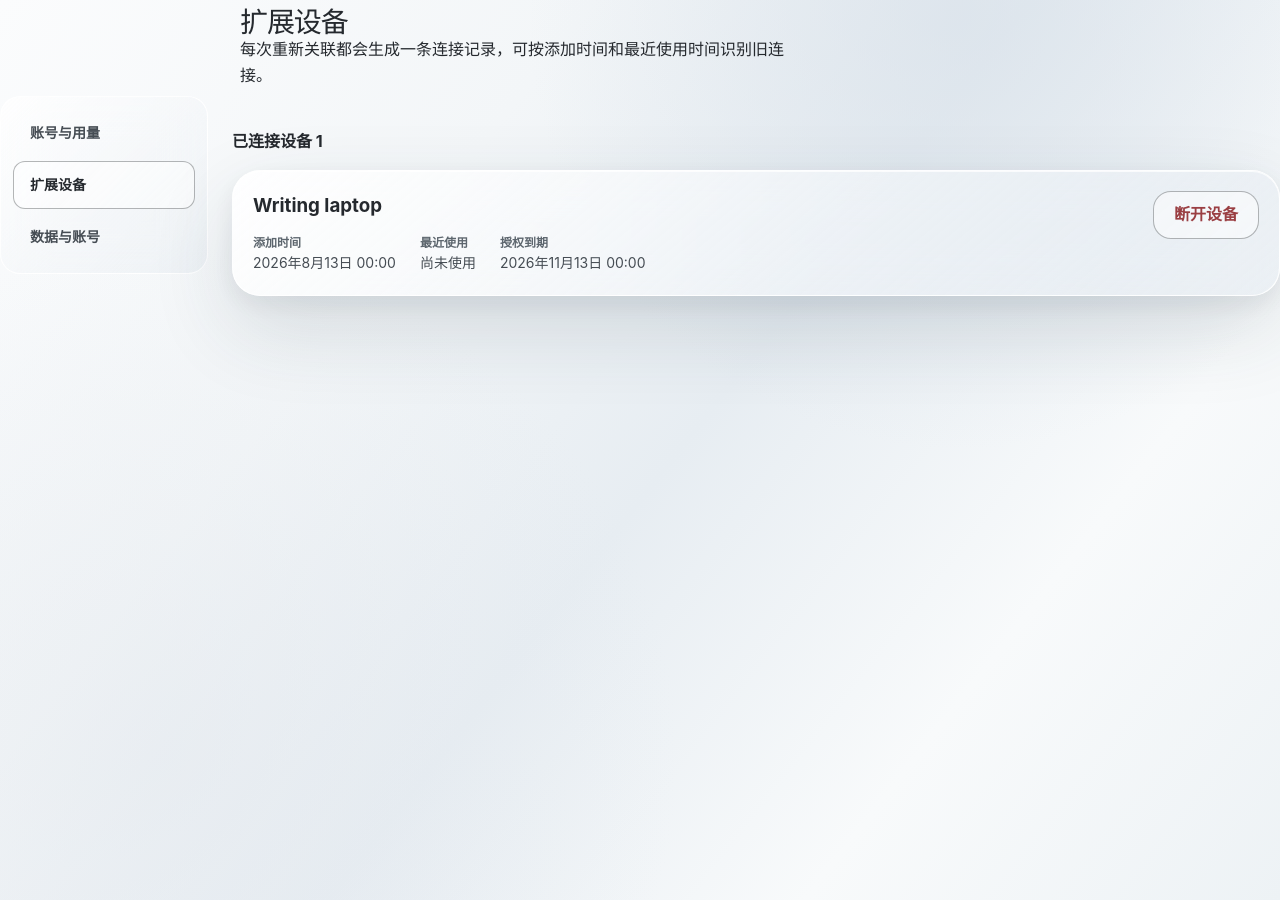
Web account device sessions › requires confirmation, revokes on the server, and announces success
Click the button "断开设备". click: (1206, 215)
box: x1=1153 y1=191 x2=1259 y2=239
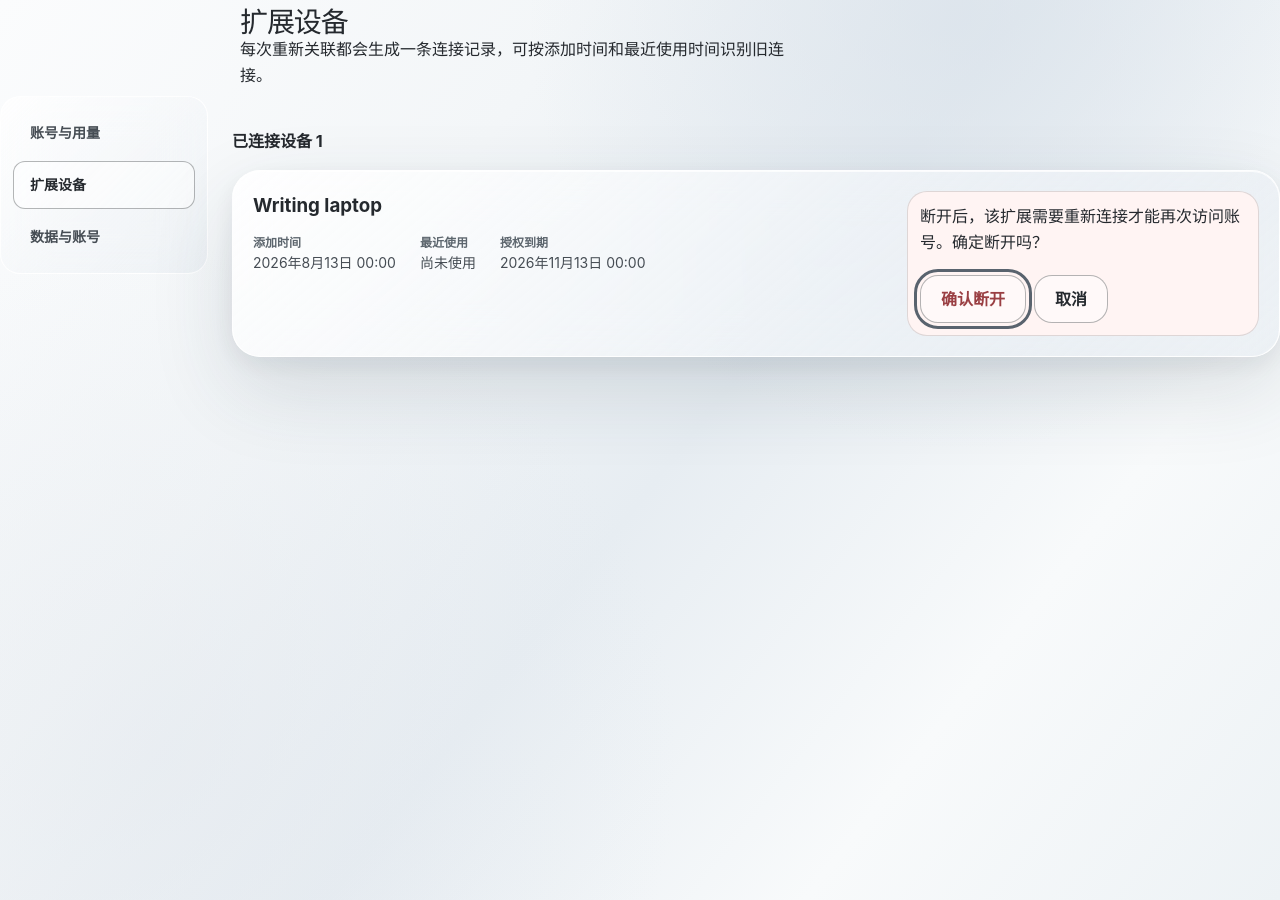
Expected: the text "需要重新连接才能再次访问账号" is shown, x1=920 y1=206 x2=1240 y2=252
Click the button "确认断开". click: (973, 299)
box: x1=920 y1=275 x2=1026 y2=323
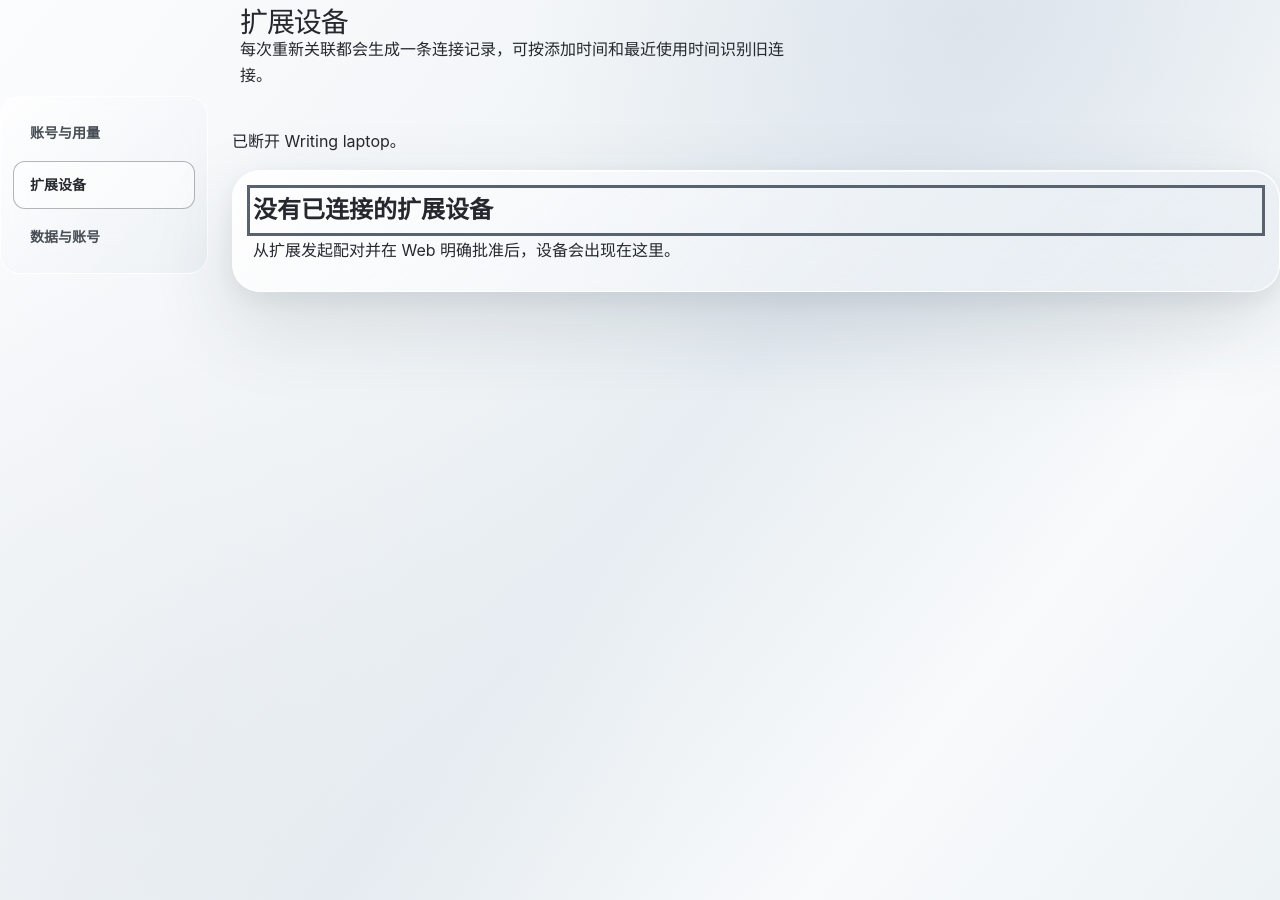
Expected: the message "已断开 Writing laptop。" is shown, x1=232 y1=131 x2=406 y2=151
Expected: the list is gone
